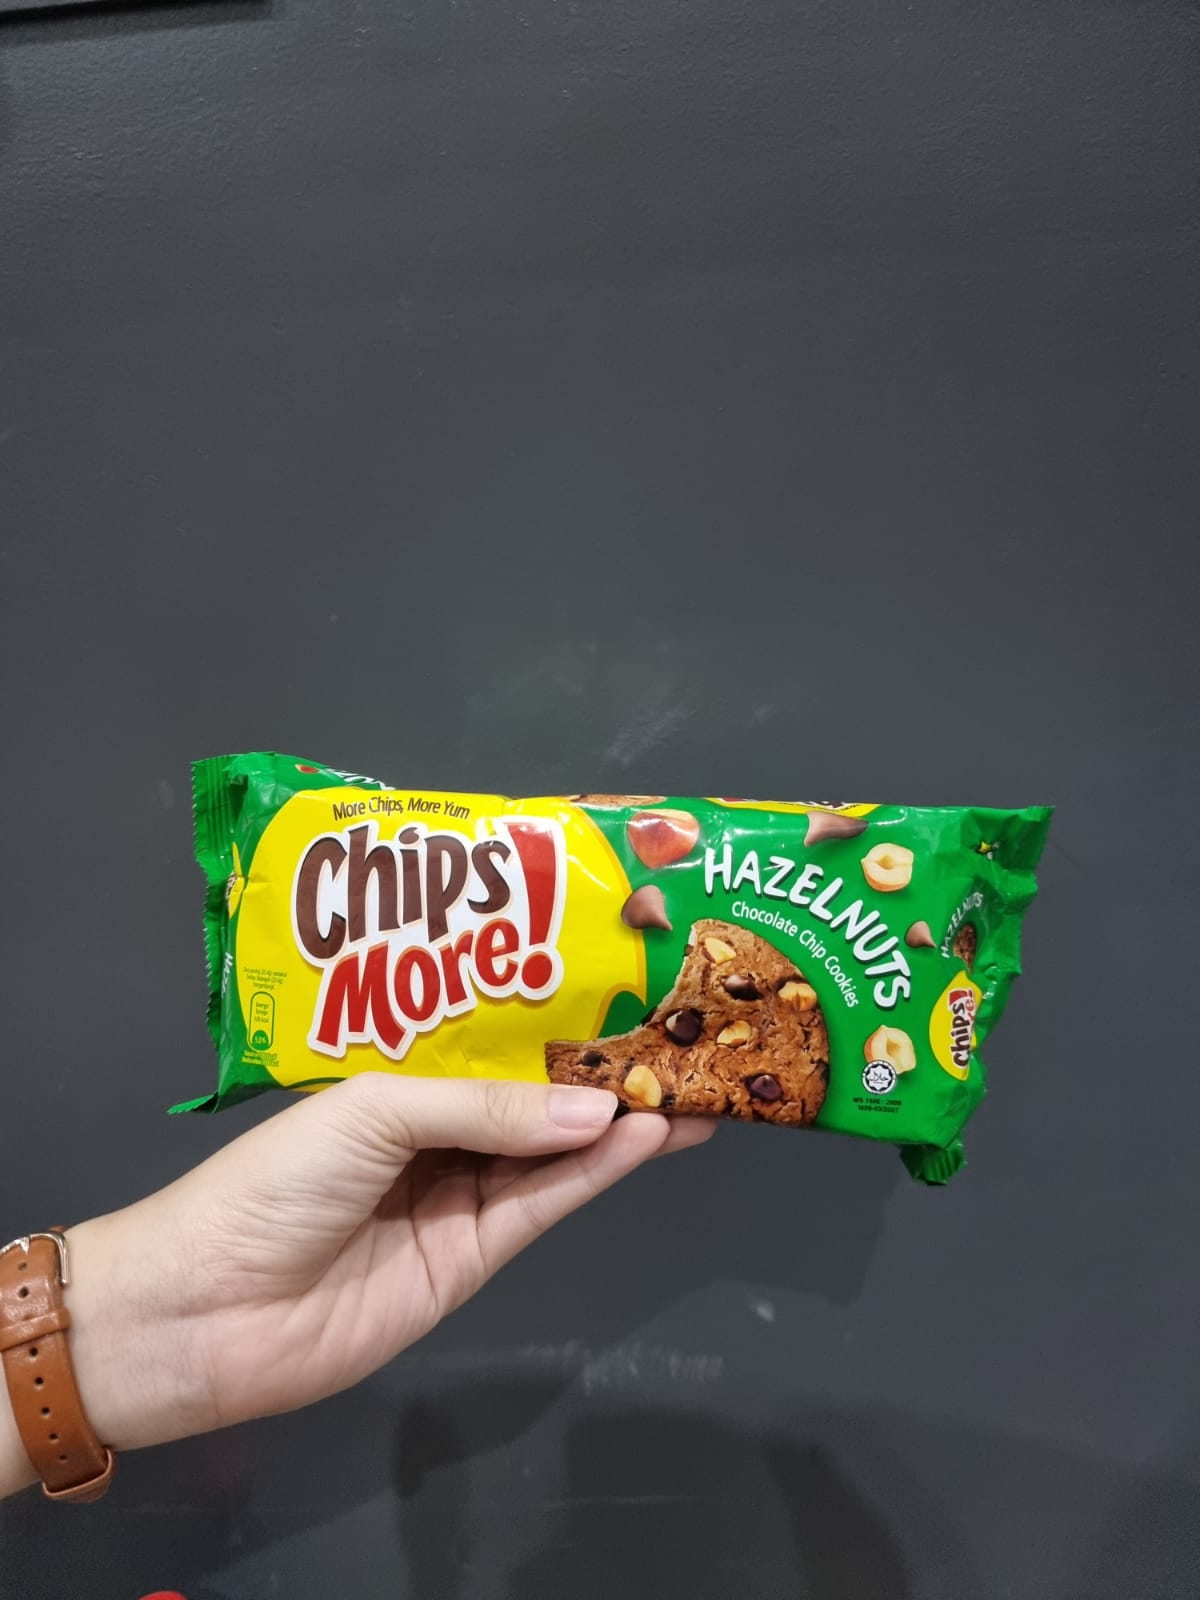Biscuits: (250, 796, 969, 1117)
